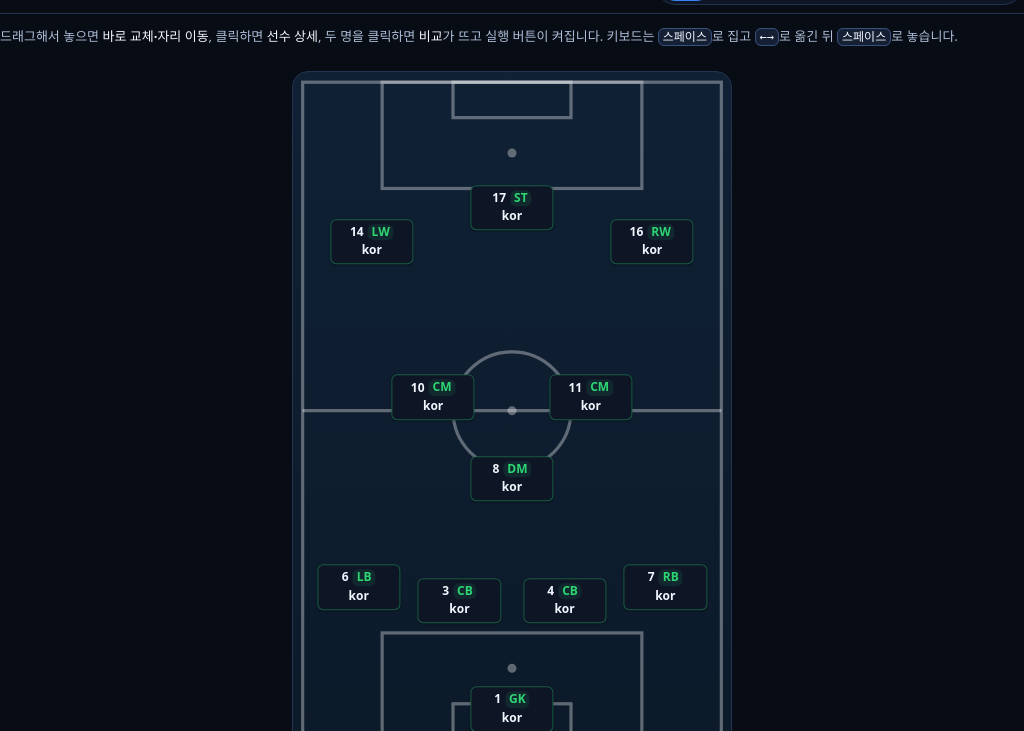
Test case: 비교 뷰 — 차이를 강조한다 › 자리 바꾸기는 "바꾼 뒤 적합도"를 보여 준다 — 지금 값이 아니라 결과가 판단 재료다
What coordinates should you click on to do the following:
click the button with class "lu-chip" showing "3 CB kor"
I would click on:
 (459, 601)
Its box is [418,578,501,623].
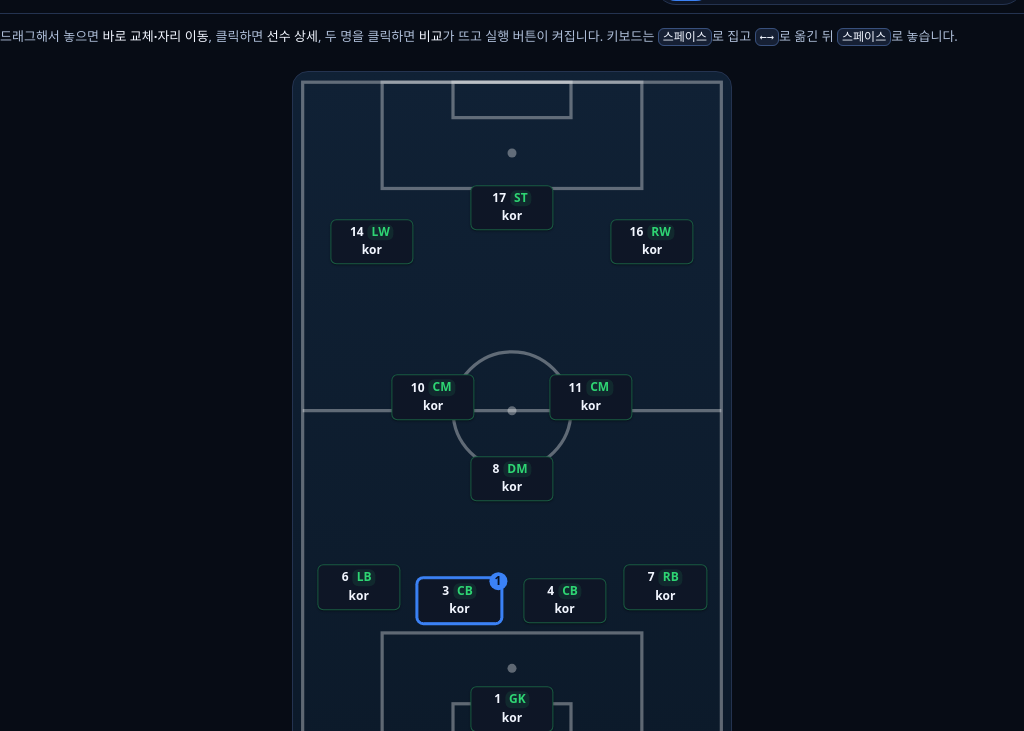
What coordinates should you click on to do the following:
click the button with class "lu-chip" showing "16 RW kor"
I would click on:
 (652, 242)
Its box is [610,219,694,264].
(page scrolled)
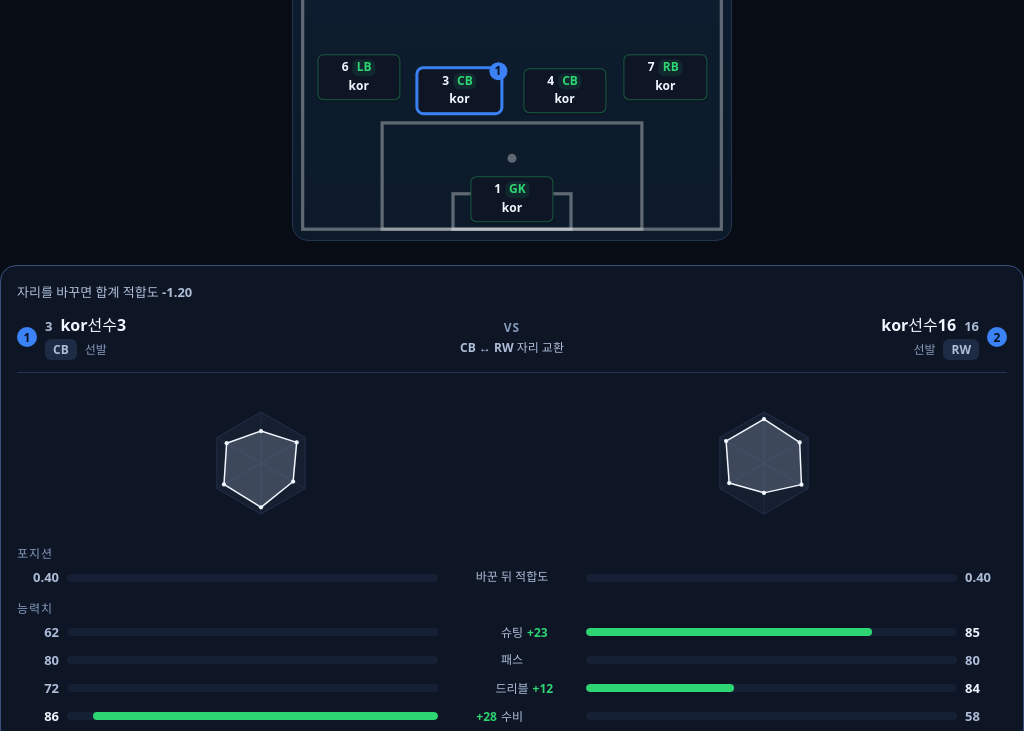
expect the element with class "cmp" shows "바꾼 뒤 적합도": met, box [476,568,548,585]
expect the text with class "cmp__ctx-text" shows "자리 교환": met, box [460,339,564,356]
